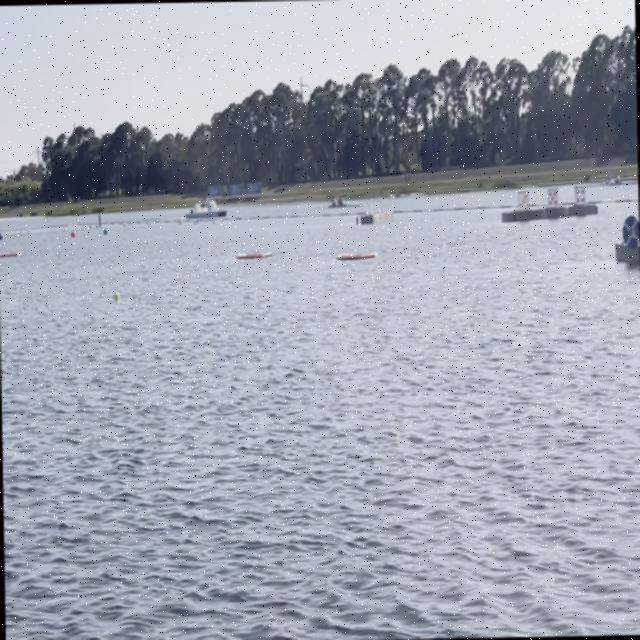buoy: (112, 290, 118, 300), (102, 227, 109, 234), (70, 230, 76, 238), (0, 231, 2, 240)
